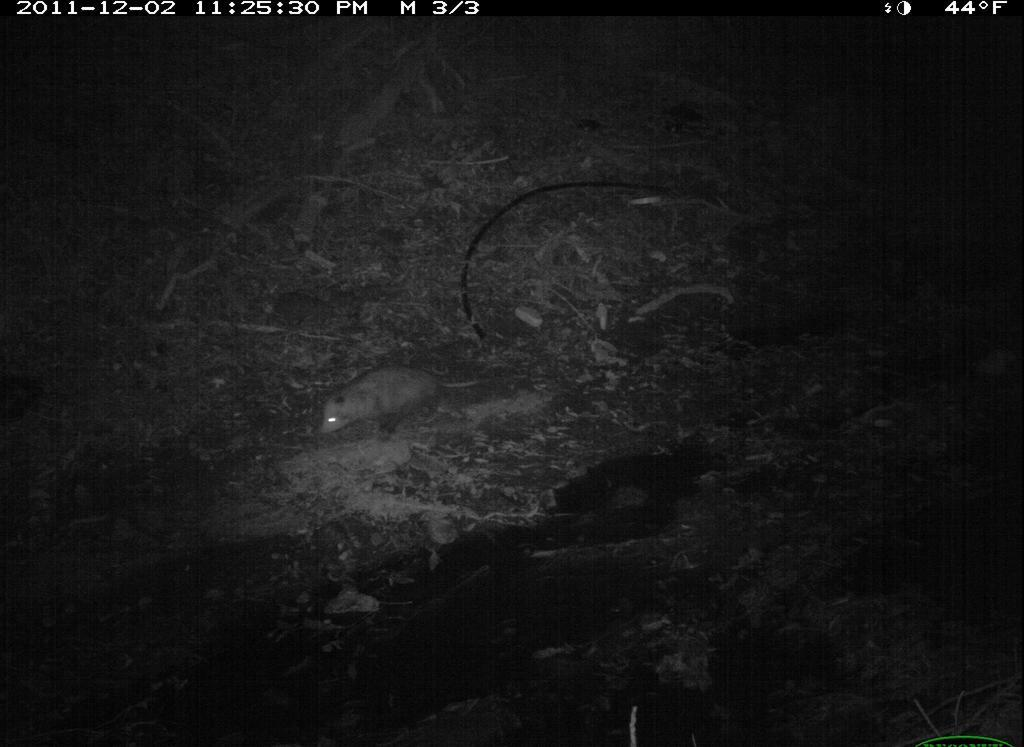opossum: (319, 361, 468, 442)
